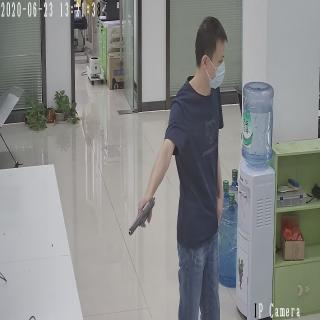gun: (130, 195, 156, 237)
